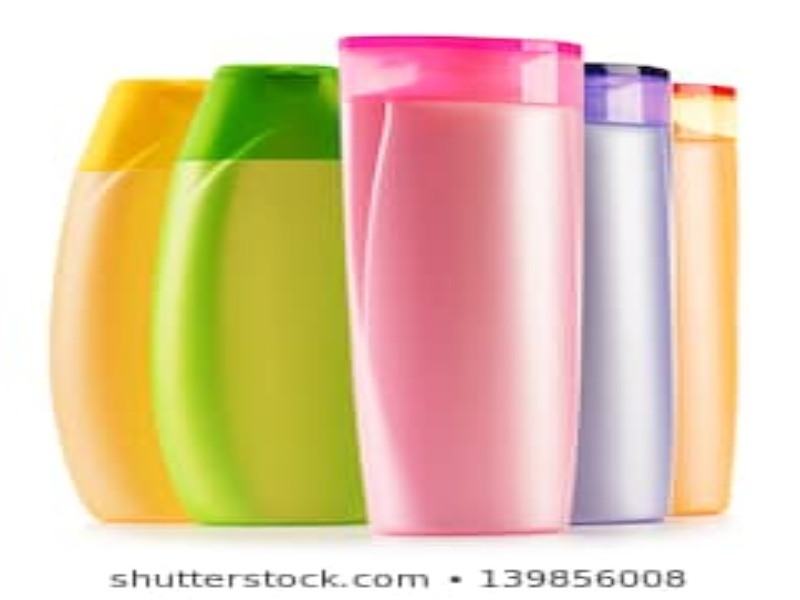shampoo-bottle: (336, 26, 593, 542), (153, 39, 377, 533), (39, 56, 229, 540), (561, 54, 681, 529), (659, 76, 749, 521)
